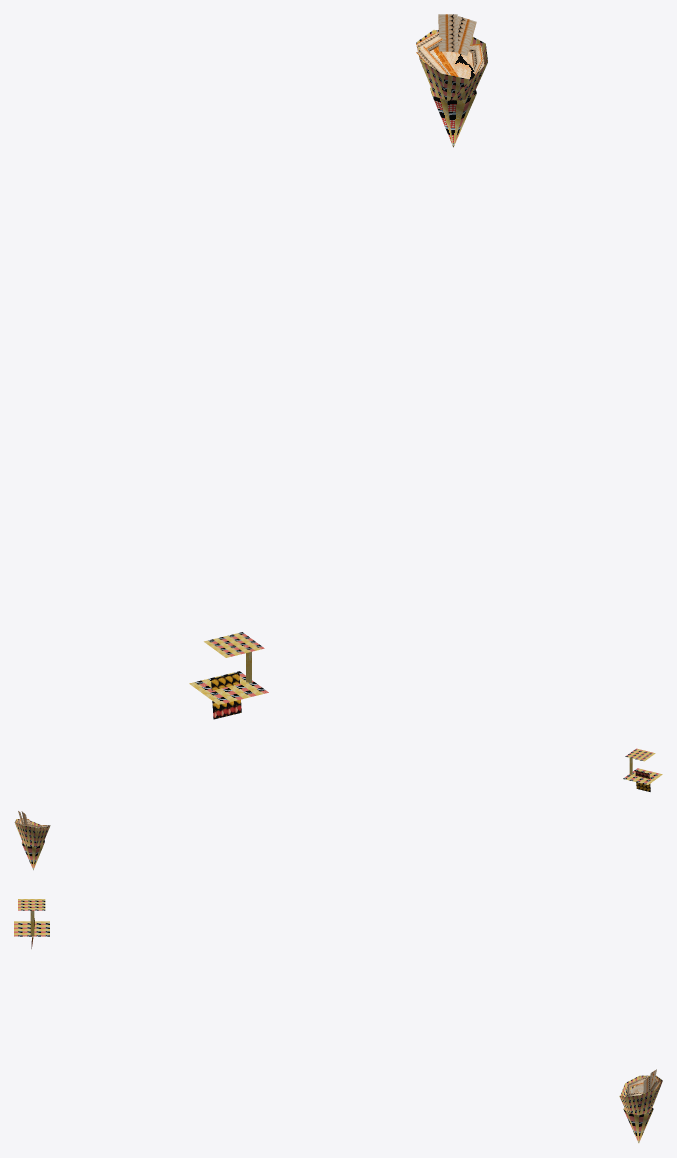
Rendered from 1170u_crep00_ss.gltf.
3 renders of one model, top to bottom at view 1: azimuth 30°, elevation 25°; view 2: azimuth 150°, elevation 25°; view 3: azimuth 270°, elevation 25°, orthographic. The views are drawn at different scales.
Parts seen in each view (by area): view 1: 1170u_crep00_ss; view 2: 1170u_crep00_ss; view 3: 1170u_crep00_ss.
Boxes of the visible parts, x1,y1,x2,y2 form: 1170u_crep00_ss: (189,14,487,719); 1170u_crep00_ss: (14,748,662,869); 1170u_crep00_ss: (14,899,662,1143).
Bounding box in the file's own units: 5.44 × 1 × 6.42.
4 materials, 4 textured.
